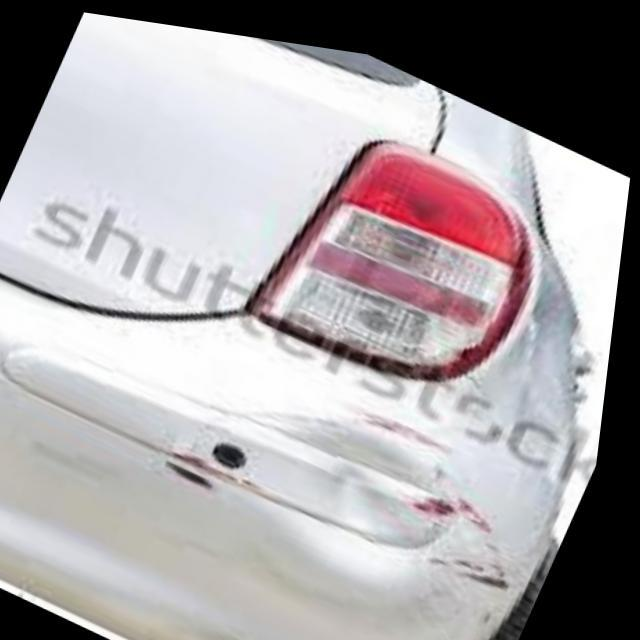dent: (221, 380, 556, 613)
